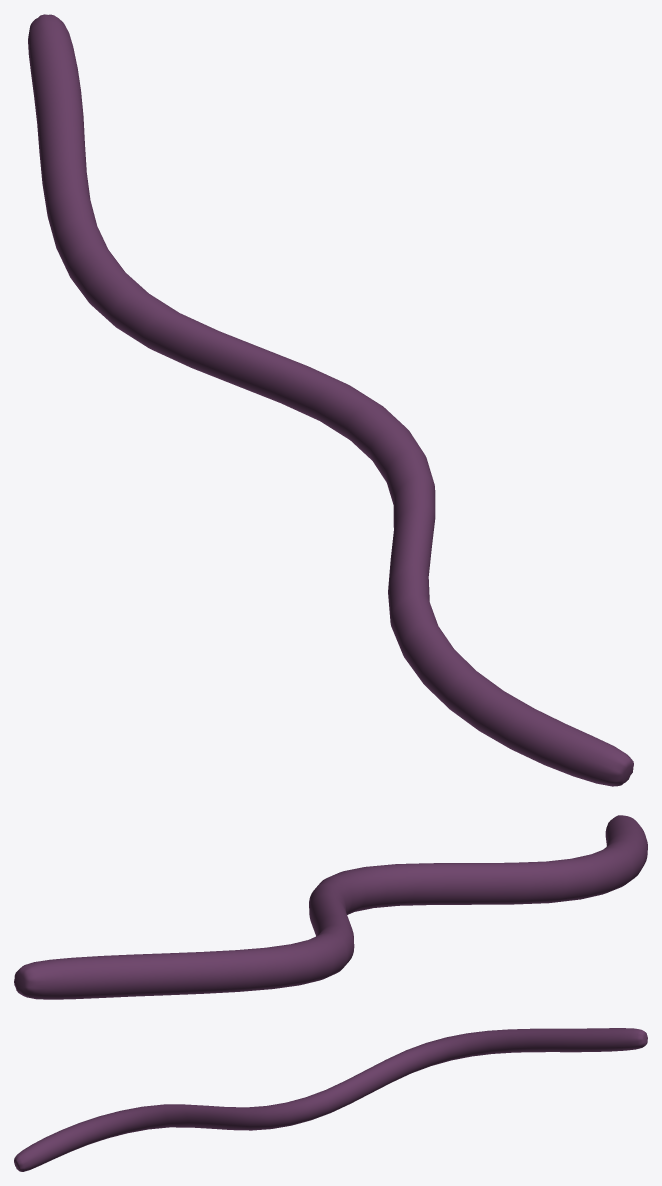
The model's file is frame_16.obj.
The picture shows the model from 3 angles, top to bottom: view 1: azimuth 30°, elevation 25°; view 2: azimuth 150°, elevation 25°; view 3: azimuth 270°, elevation 25°; orthographic projection. The views are drawn at different scales.
Parts seen in each view (by area): view 1: worm2; view 2: worm2; view 3: worm2.
Boxes of the visible parts, x1,y1,x2,y2 form: worm2: (28, 14, 633, 786); worm2: (14, 815, 647, 999); worm2: (14, 1028, 647, 1171).
Bounding box in the file's own units: 260 × 454 × 1709.
